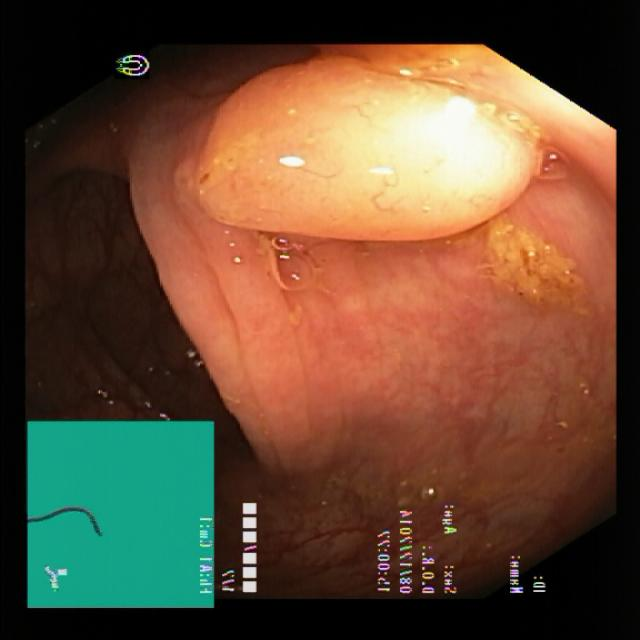Polyps: (189, 47, 560, 248), (470, 216, 605, 321)
